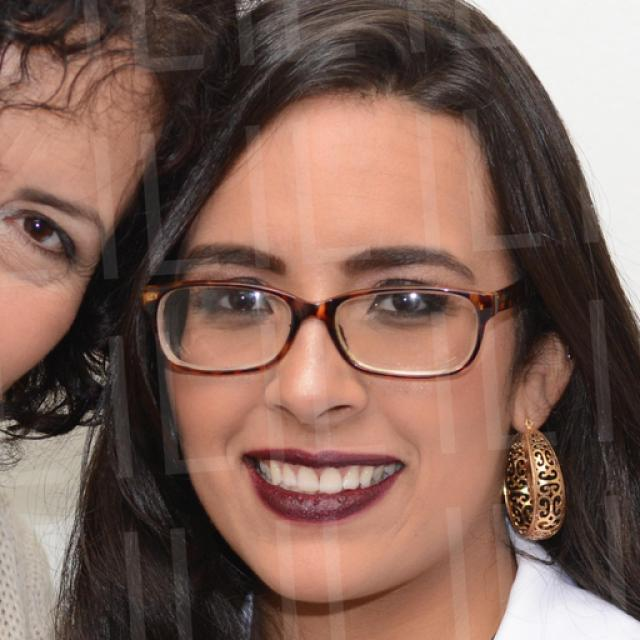happy: (164, 86, 516, 607), (0, 34, 160, 445)
